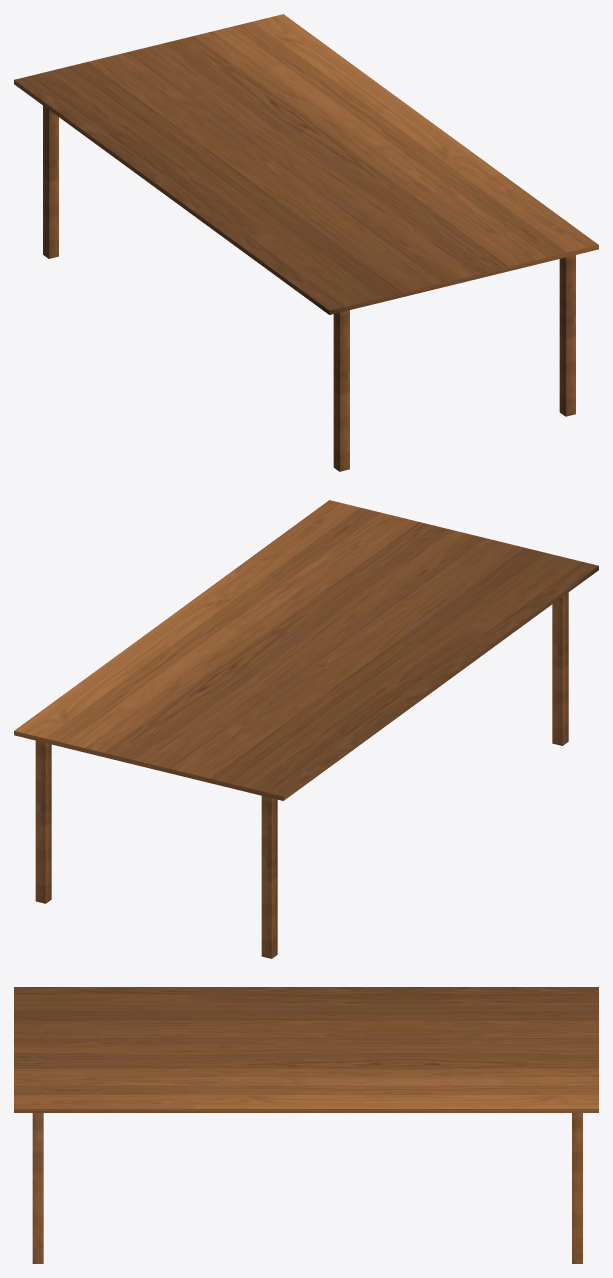
File: table.glb
3 views of the same model, one above another, from view 1: azimuth 30°, elevation 25°; view 2: azimuth 150°, elevation 25°; view 3: azimuth 270°, elevation 25° (orthographic). The views are drawn at different scales.
Visible parts, largest first — view 1: Cube.021; view 2: Cube.021; view 3: Cube.021.
Part boxes in pixels (bbox=[...]): Cube.021: bbox=[14, 14, 598, 471]; Cube.021: bbox=[14, 500, 598, 958]; Cube.021: bbox=[14, 987, 598, 1263].
Bounding box in the file's own units: 520 × 320 × 1055.
Materials: 1 (1 with a texture image).
